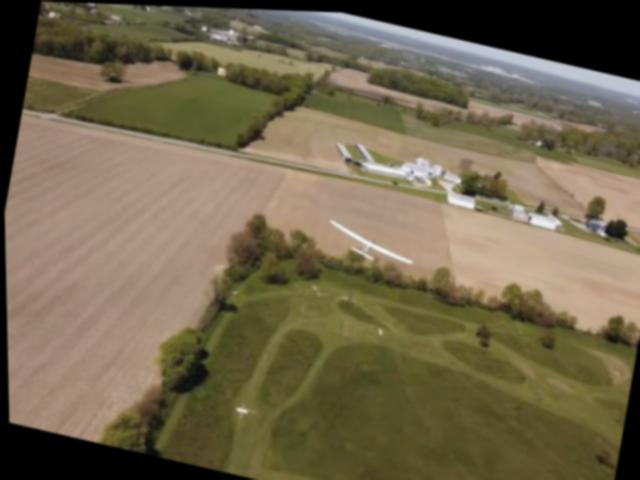uav: (313, 204, 425, 279)
